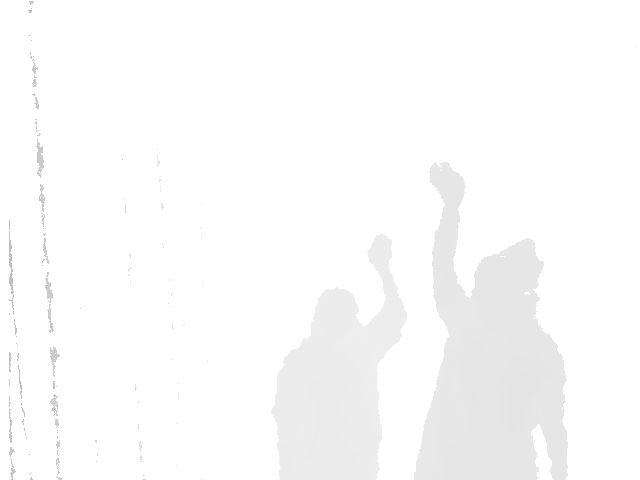hand: (428, 161, 466, 208), (367, 232, 395, 270)
head: (473, 239, 541, 308), (310, 288, 360, 341)
person: (411, 161, 569, 480), (271, 232, 407, 480)
